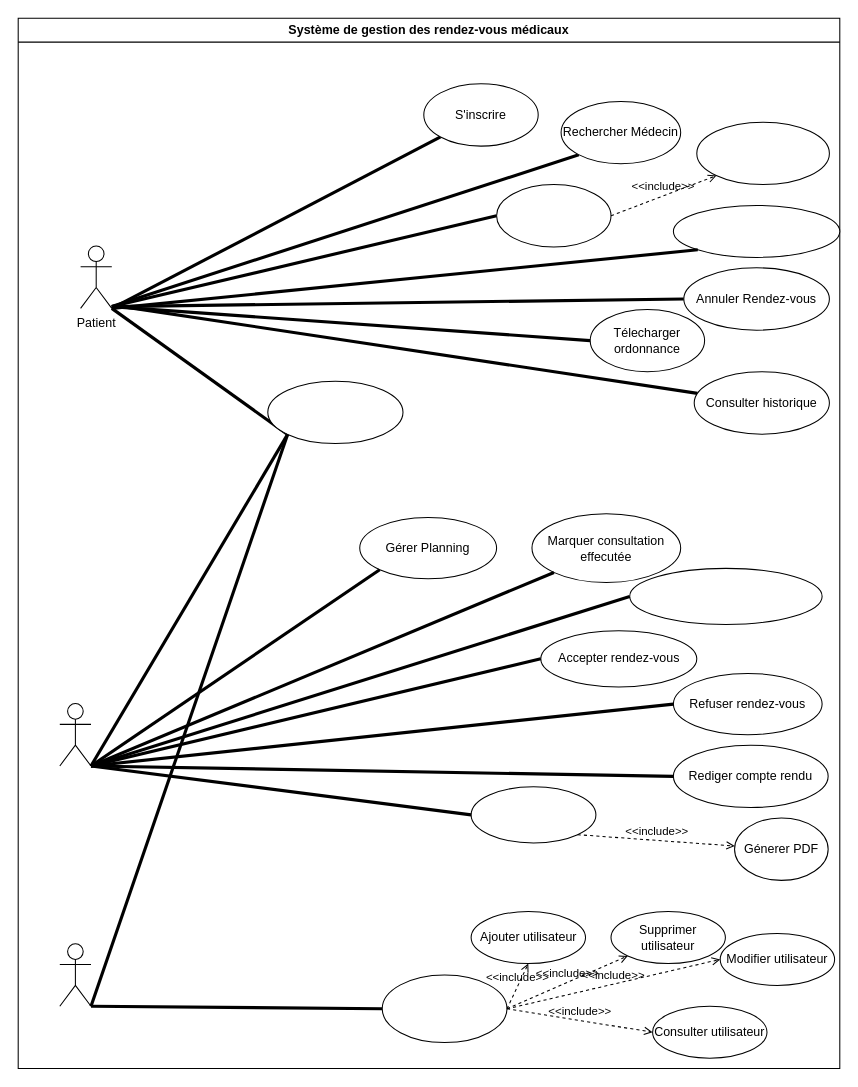
This 858x1087 diagram has some shape labels left out. The shapes that lost their labels are listed below. From the top down, each one's centre as x and y in pixels, then its label:
At point (762, 153): "Consulter disponibilités".
At point (553, 215): "Prendre Rendez-vous".
At point (756, 230): "Modifier rendez-vous".
At point (335, 412): "S'authentifier".
At point (725, 596): "Consulter rendez-vous".
At point (75, 734): "Médecin".
At point (533, 814): "Créer ordonnance".
At point (75, 974): "Administrateur".
At point (444, 1008): "Gérer utilisateurs".
